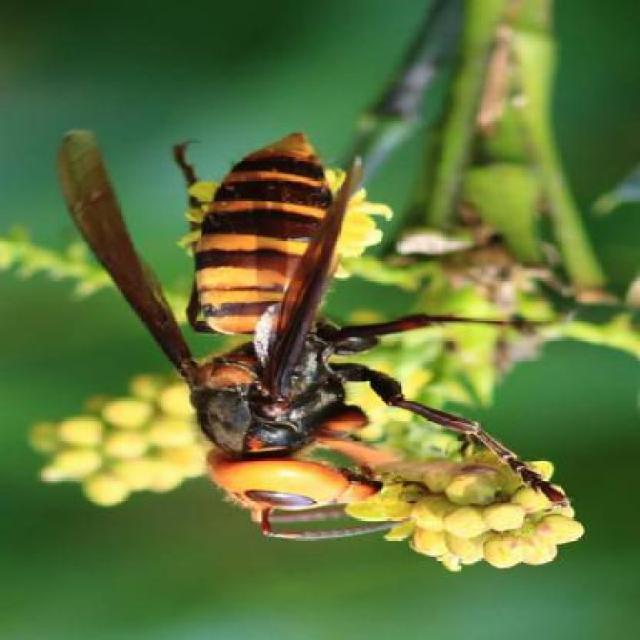Wasp: (39, 93, 574, 551)
